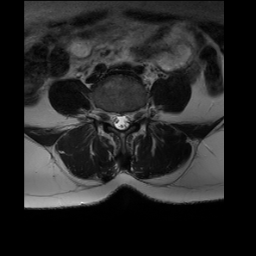CCS_normal: (118, 106, 124, 136)
LFS_normal: (131, 99, 138, 127)
LLS_normal: (124, 105, 131, 133)
RFS_normal: (105, 104, 111, 128)
RLS_normal: (111, 105, 118, 133)
